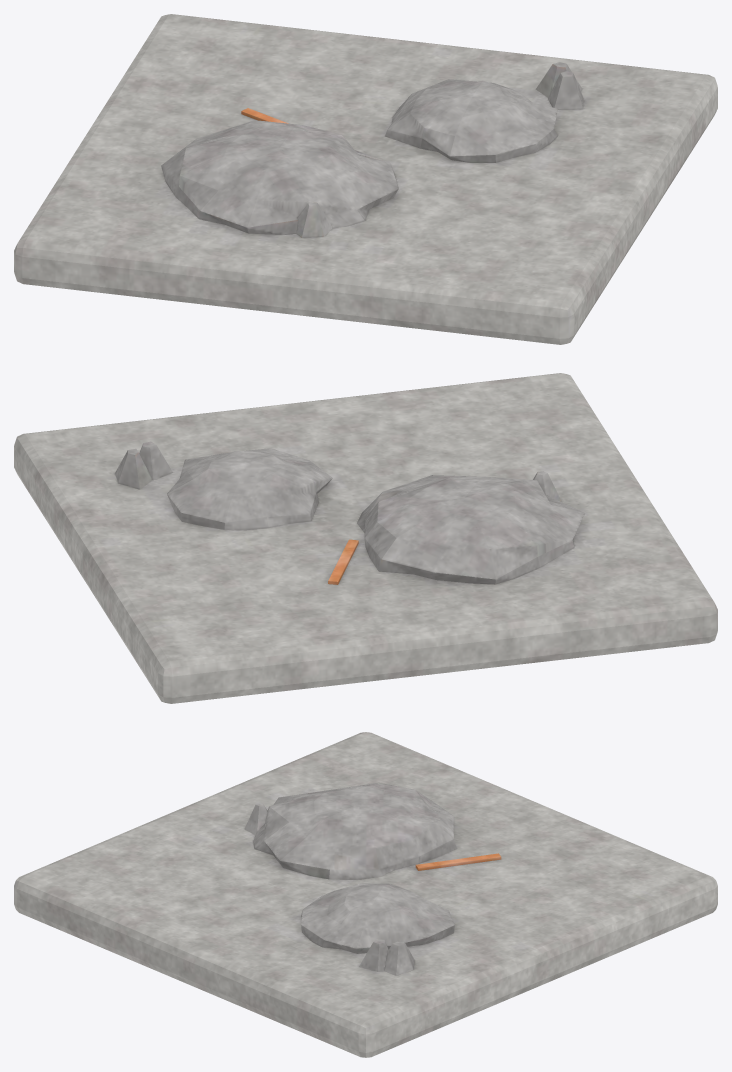
The model's file is center_plains.glb.
3 renders of one model, top to bottom at view 1: azimuth 30°, elevation 25°; view 2: azimuth 150°, elevation 25°; view 3: azimuth 270°, elevation 25°, orthographic. The views are drawn at different scales.
Parts seen in each view (by area): view 1: dilek; view 2: dilek; view 3: dilek.
Boxes of the visible parts, <box> form: dilek: <box>14,14,717,344</box>; dilek: <box>14,373,717,703</box>; dilek: <box>14,732,717,1057</box>.
Bounding box in the file's own units: 2.42 × 0.2621 × 2.42.
1 material, 1 textured.
